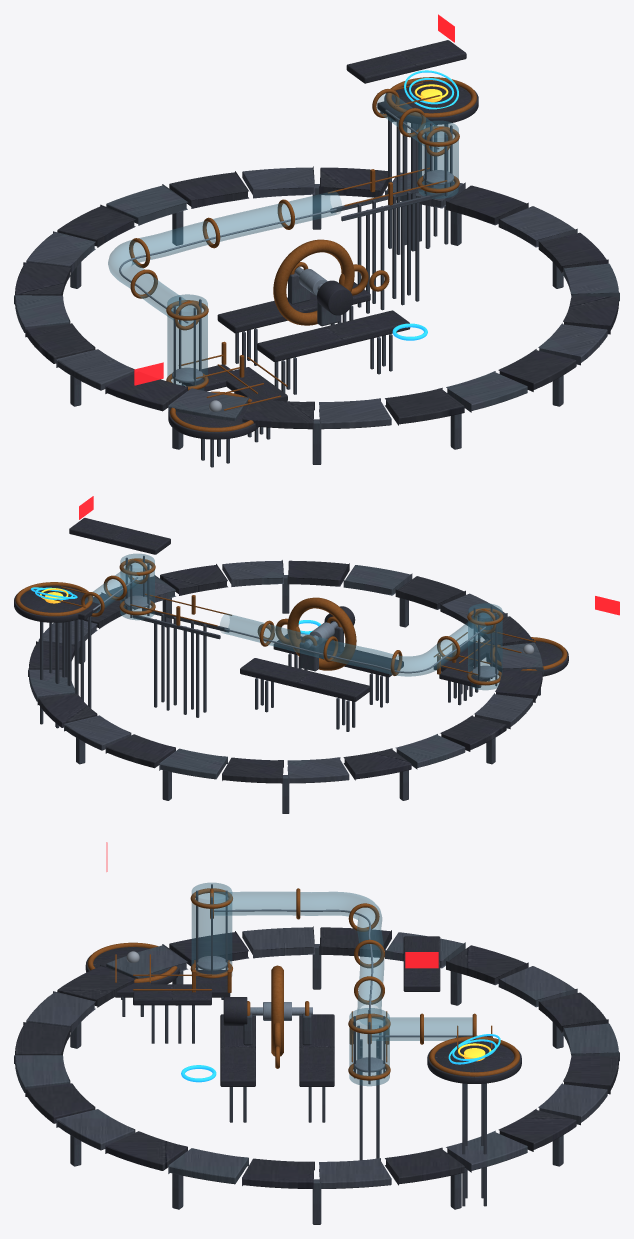
Rendered from assets__levels__level06__level06_orbital_mechanism_low.glb.
The picture shows the model from 3 angles, top to bottom: view 1: azimuth 30°, elevation 25°; view 2: azimuth 150°, elevation 25°; view 3: azimuth 270°, elevation 25°; orthographic projection. The views are drawn at different scales.
Parts seen in each view (by area): view 1: T01_GlassShell, L01_SafetyGlass, M01_ServiceDeck_South, L02_SafetyGlass, B04_Movable, M01_Rotor_Rim, R01_Segment_17, R01_Segment_05, R01_Segment_04, R01_Segment_18, R01_Segment_16, R01_Segment_01 (+26 smaller); view 2: T01_GlassShell, L01_SafetyGlass, M01_ServiceDeck_North, L02_SafetyGlass, B04_Movable, M01_Rotor_Rim, R01_Segment_06, R01_Segment_09, R01_Segment_18, R01_Segment_19, R01_Segment_10, R01_Segment_05 (+28 smaller); view 3: T01_GlassShell, L01_SafetyGlass, L02_SafetyGlass, M01_ServiceDeck_North, P02_Deck, T02_GlassShell, M01_ServiceDeck_South, R01_Segment_22, R01_Segment_01, R01_Segment_21, R01_Segment_12, R01_Segment_23 (+29 smaller).
Part boxes in pixels (x1,y1,x2,y2): T01_GlassShell: (108,191,341,325); L01_SafetyGlass: (167,294,207,390); M01_ServiceDeck_South: (257,310,410,361); L02_SafetyGlass: (418,120,458,198); B04_Movable: (346,40,466,83); M01_Rotor_Rim: (273,239,354,325); R01_Segment_17: (385,387,464,425); R01_Segment_05: (169,171,248,208); R01_Segment_04: (242,166,314,198); R01_Segment_18: (446,371,527,412); R01_Segment_16: (319,398,391,430); R01_Segment_01: (446,185,528,225); T01_GlassShell: (220,613,492,676); L01_SafetyGlass: (468,603,502,690); M01_ServiceDeck_North: (240,658,370,701); L02_SafetyGlass: (120,553,154,620); B04_Movable: (69,518,170,554); M01_Rotor_Rim: (287,597,356,670); R01_Segment_06: (159,748,227,779); R01_Segment_09: (343,748,411,780); R01_Segment_18: (343,565,412,595); R01_Segment_19: (287,560,349,586); R01_Segment_10: (395,734,465,769); R01_Segment_05: (105,734,175,768); T01_GlassShell: (214,891,384,1012); L01_SafetyGlass: (191,882,232,976); L02_SafetyGlass: (349,1008,389,1086); M01_ServiceDeck_North: (299,1014,334,1086); P02_Deck: (427,1042,521,1083); T02_GlassShell: (372,1017,472,1040); M01_ServiceDeck_South: (220,1014,255,1086); R01_Segment_22: (168,1148,248,1184); R01_Segment_01: (385,1147,464,1185); R01_Segment_21: (105,1131,187,1170); R01_Segment_12: (242,926,314,958); R01_Segment_23: (242,1158,314,1188).
Size of the model in its own units: 48.34 by 20.48 by 46.14.
9 materials, 4 textured.
